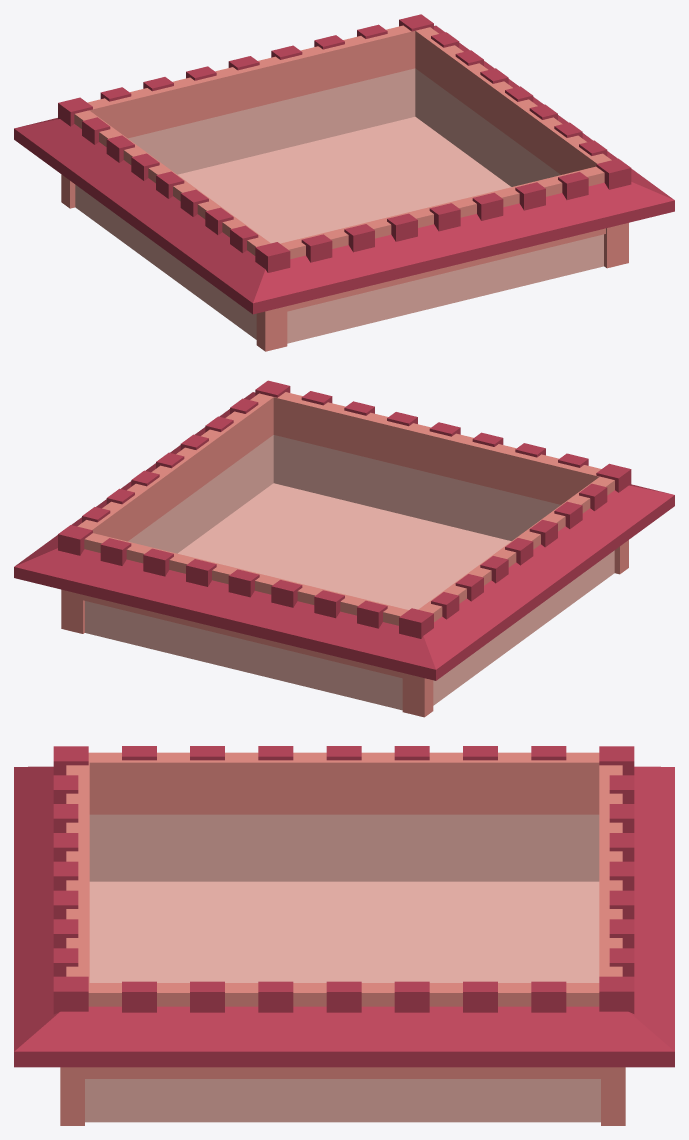
File: Pink Building 3.fbx
The picture shows the model from 3 angles, top to bottom: view 1: azimuth 30°, elevation 25°; view 2: azimuth 150°, elevation 25°; view 3: azimuth 270°, elevation 25°; orthographic projection. The views are drawn at different scales.
Visible parts, largest first — view 1: Cube.064; view 2: Cube.064; view 3: Cube.064.
Part boxes in pixels (x1,y1,x2,y2): Cube.064: (14, 14, 674, 351); Cube.064: (14, 380, 674, 717); Cube.064: (14, 746, 674, 1125).
Bounding box in the file's own units: 957 × 210 × 938.
